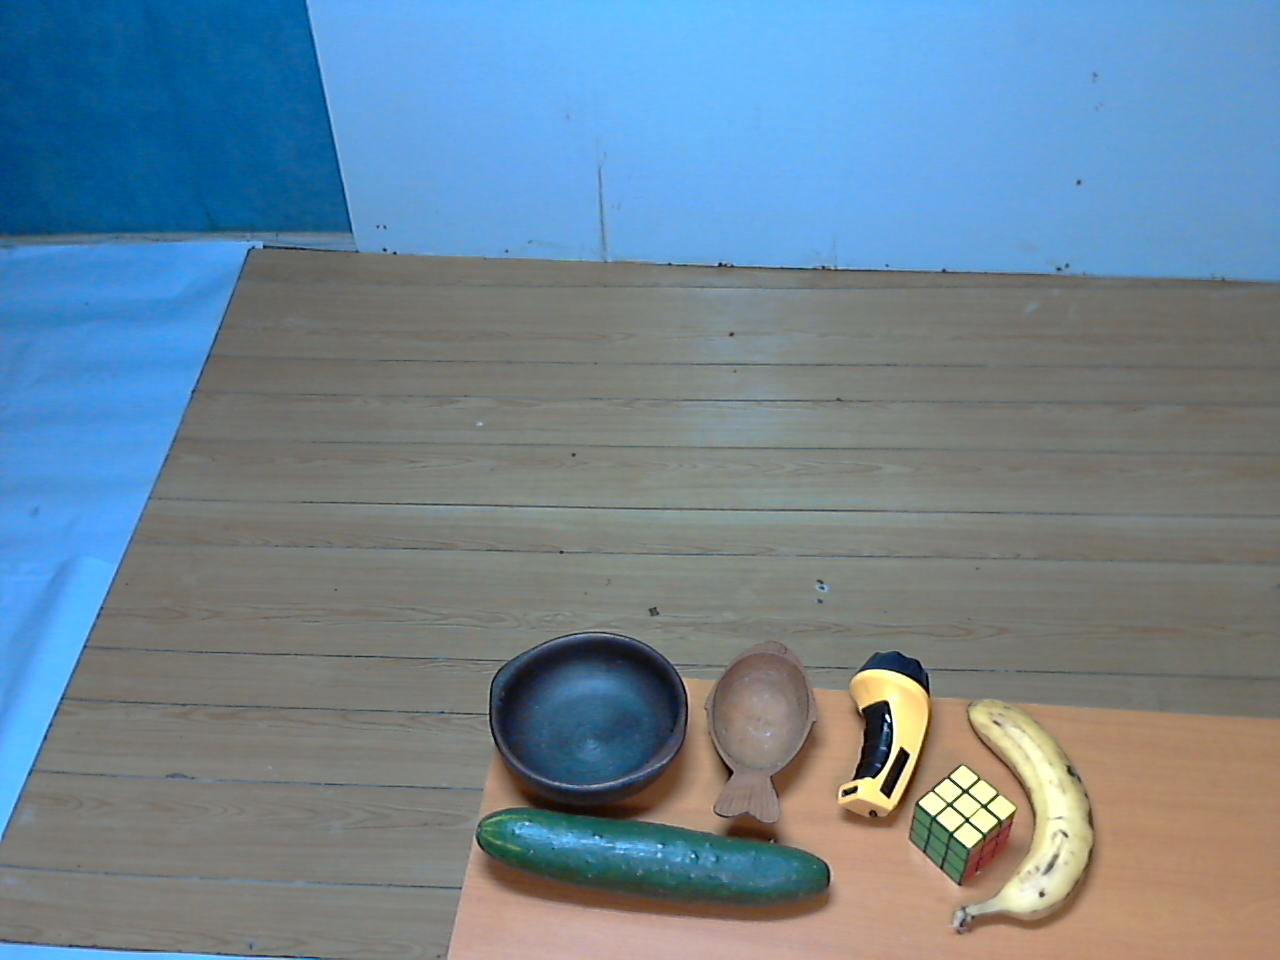cubix: (907, 754, 1021, 898)
greda: (485, 620, 691, 817)
linterna: (833, 639, 942, 834)
pepino: (466, 798, 842, 925)
pescado: (692, 631, 826, 834)
platano: (946, 688, 1108, 953)
